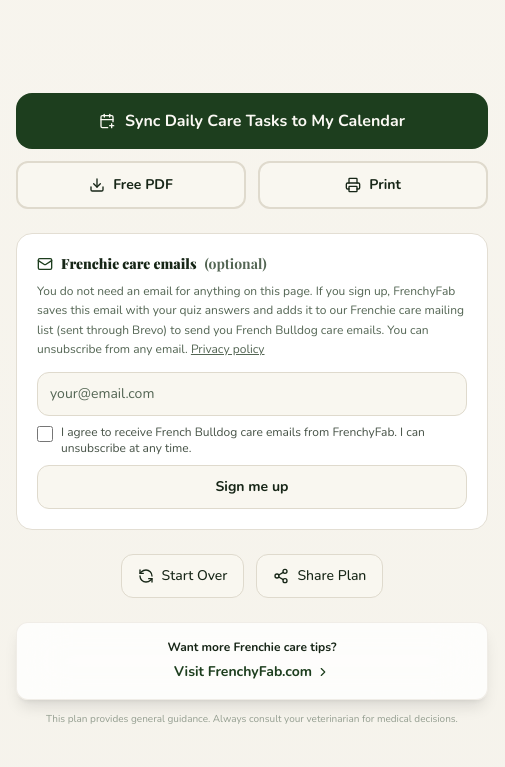
Scenario: Care Vault offer › does not send the optional email without explicit consent
(page scrolled)
Step 1. Type "owner@example.com" into the field named "Email address (optional)" → (252, 394), box [37,372,467,416]
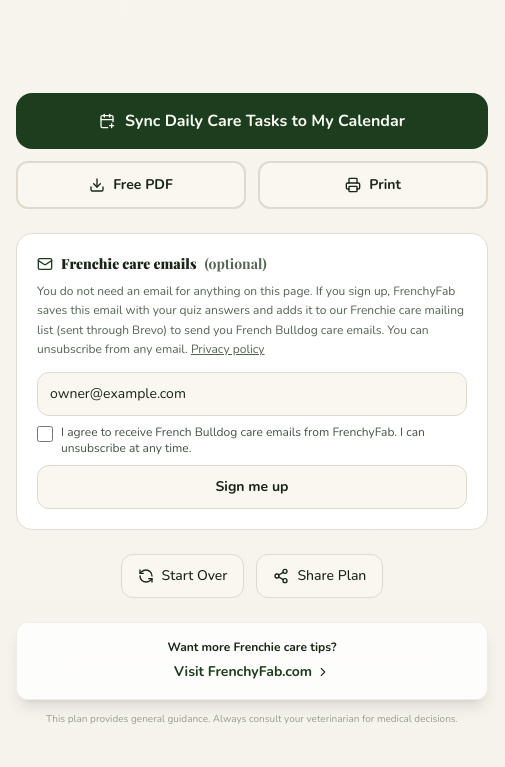
Step 2. Click the button "Sign me up" → (252, 486), box [37,464,467,508]
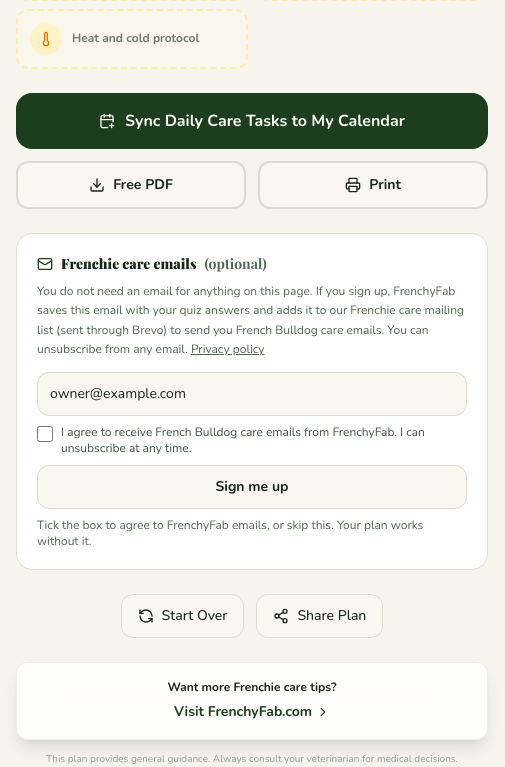
Expected: the text "Tick the box to agree" is shown, [37,516,423,548]
